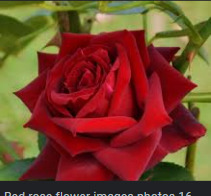RedRose: (18, 32, 206, 181)
